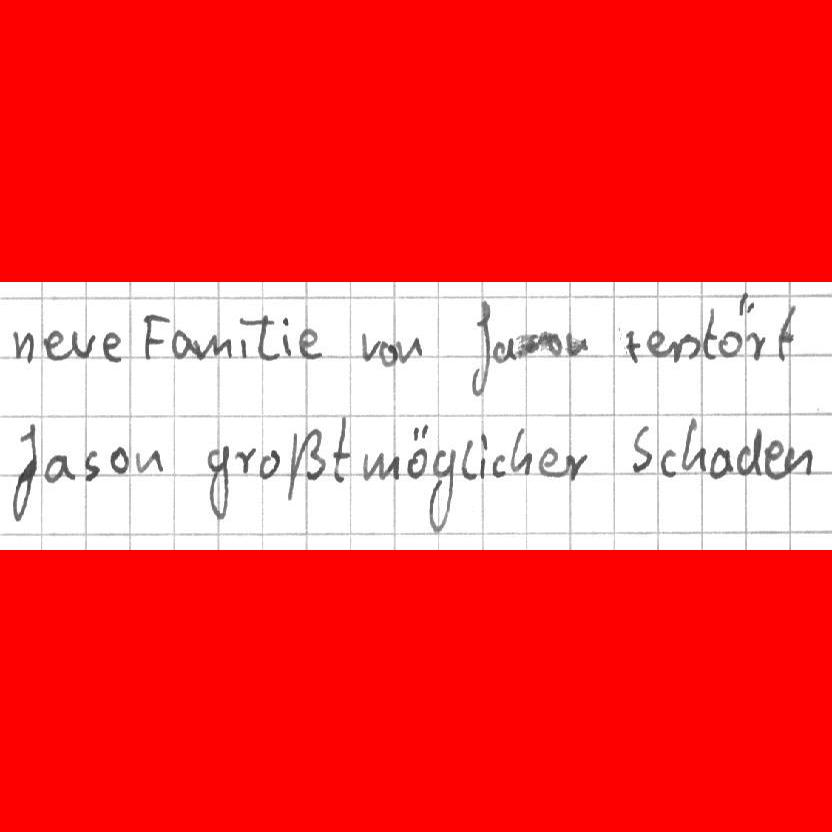Char: (7, 427, 40, 521), (286, 427, 327, 502), (469, 298, 495, 399), (428, 447, 456, 532), (741, 292, 767, 361), (206, 445, 228, 519), (680, 417, 707, 475), (775, 303, 799, 364), (329, 415, 350, 484), (361, 448, 401, 484), (141, 312, 169, 363), (629, 421, 654, 477), (405, 420, 428, 480), (736, 426, 761, 477), (252, 313, 277, 361), (508, 426, 531, 477), (43, 449, 74, 484), (199, 329, 232, 361), (784, 441, 811, 478), (9, 326, 35, 363), (707, 443, 733, 480), (700, 308, 718, 360), (763, 437, 784, 480), (132, 446, 163, 475), (69, 326, 94, 361), (459, 437, 478, 481), (359, 329, 382, 365), (101, 329, 125, 363), (298, 327, 323, 359), (42, 329, 67, 361), (396, 333, 421, 365), (620, 327, 641, 365), (672, 333, 698, 363), (171, 328, 196, 359), (509, 332, 534, 362), (646, 327, 669, 359), (539, 446, 561, 478), (492, 336, 517, 364), (258, 448, 279, 481), (238, 315, 253, 361), (563, 450, 584, 482), (108, 444, 129, 475), (81, 448, 100, 482), (658, 446, 678, 478), (719, 329, 740, 359), (234, 446, 255, 476), (565, 331, 589, 356), (539, 330, 561, 357), (279, 312, 292, 356), (378, 338, 397, 368), (478, 431, 489, 480), (492, 452, 508, 477)
